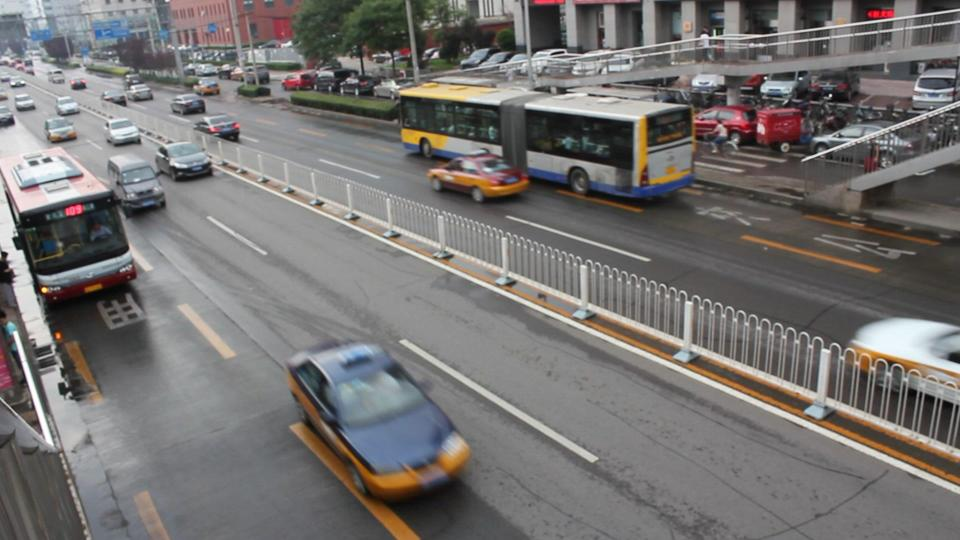bus: (398, 77, 697, 202), (0, 147, 139, 304), (912, 62, 960, 112)
car: (282, 338, 475, 505), (844, 317, 959, 409), (426, 151, 530, 203), (108, 153, 167, 215), (809, 123, 912, 153), (153, 141, 214, 180), (694, 106, 758, 139), (760, 71, 810, 99), (193, 113, 241, 141), (105, 118, 142, 146), (43, 117, 79, 143), (460, 48, 500, 68), (169, 94, 207, 115), (0, 93, 16, 127), (55, 96, 81, 116), (125, 84, 154, 101), (101, 88, 129, 105), (14, 94, 36, 111), (10, 78, 27, 88)
person: (708, 122, 736, 155)
